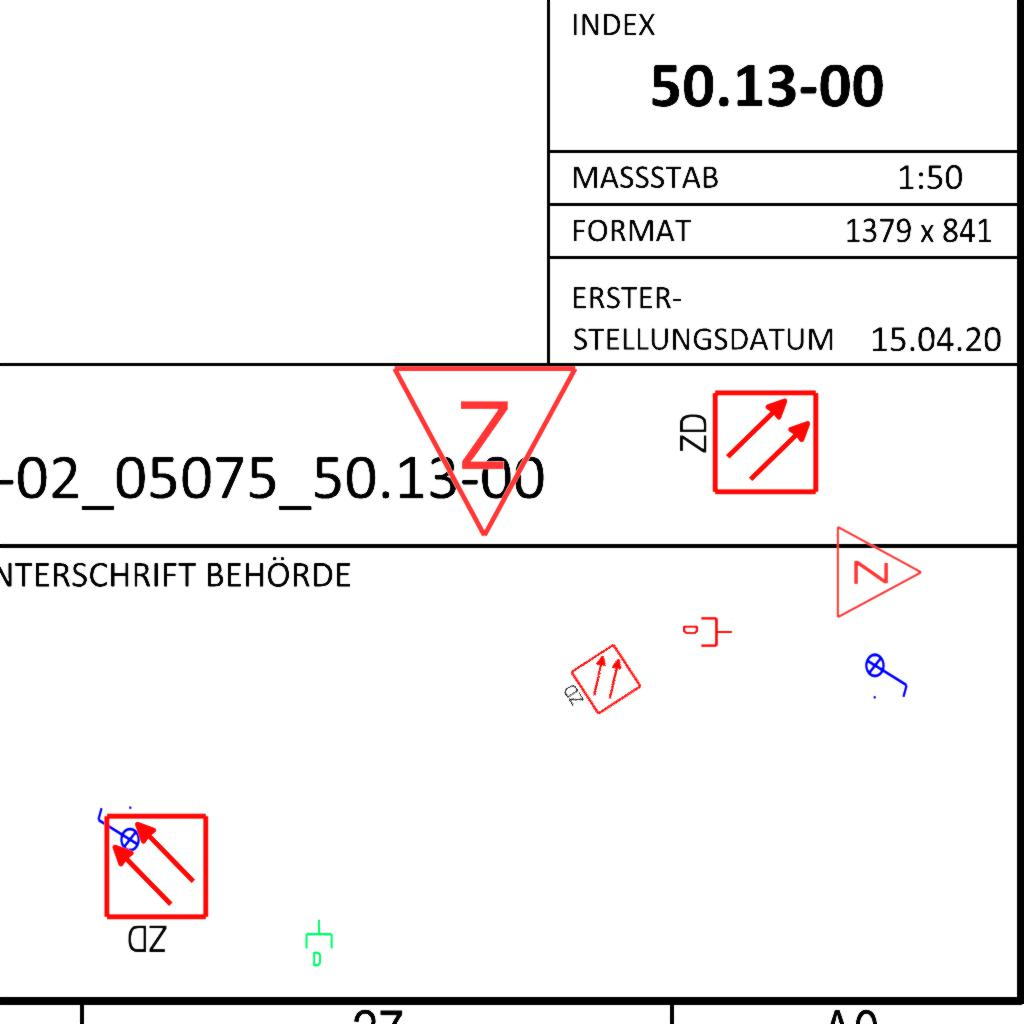Ausschalter_beleuchtet: (93, 803, 141, 859), (864, 646, 912, 702)
Datenanschluss_einfach: (683, 615, 733, 649), (303, 918, 337, 968)
ZD_Melder_in_Zwischendecke_mit_Revisionsoeffnung_mind_40_x_40_cm: (672, 387, 821, 501), (101, 811, 215, 960), (551, 640, 646, 730)
Zimmersignalleuchte: (389, 351, 585, 551), (829, 522, 929, 620)
